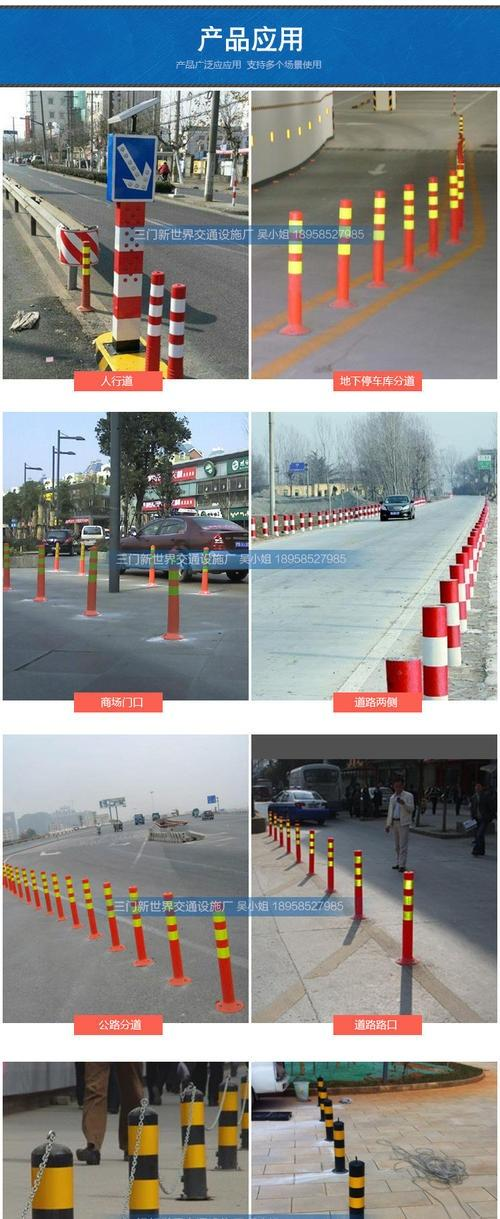cone_barrel: (24, 1126, 76, 1217), (124, 1098, 162, 1217), (175, 1088, 212, 1201), (281, 205, 309, 339), (208, 901, 240, 1016), (417, 598, 451, 702), (157, 887, 189, 991), (330, 194, 355, 313), (162, 278, 190, 381), (140, 268, 165, 375), (122, 882, 152, 970), (214, 1074, 240, 1169), (395, 871, 419, 968), (396, 180, 418, 275), (366, 185, 386, 289), (99, 880, 124, 956), (163, 564, 185, 644), (384, 649, 420, 695), (421, 171, 438, 257), (344, 1154, 366, 1217), (83, 544, 102, 615), (328, 1115, 346, 1172), (81, 879, 97, 941), (351, 847, 364, 919), (323, 837, 335, 895), (306, 829, 315, 876), (271, 513, 279, 534), (259, 515, 267, 535), (282, 513, 289, 533)
